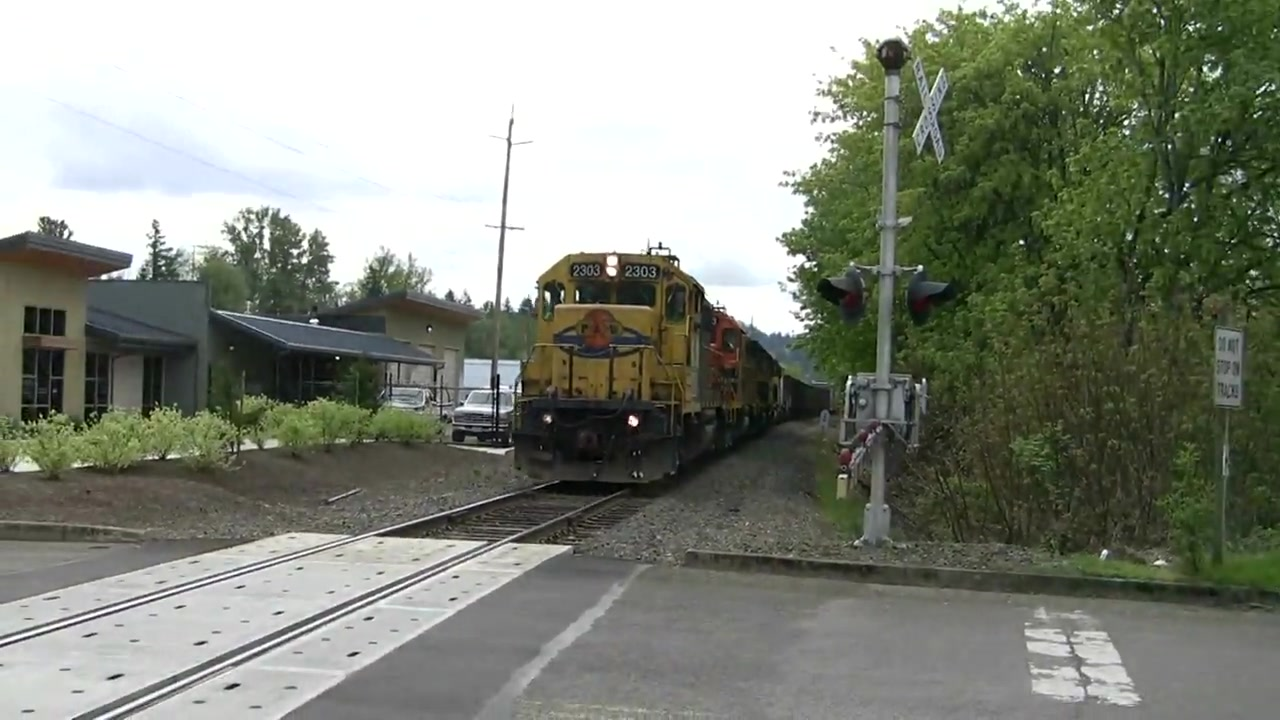train: (510, 242, 835, 489)
